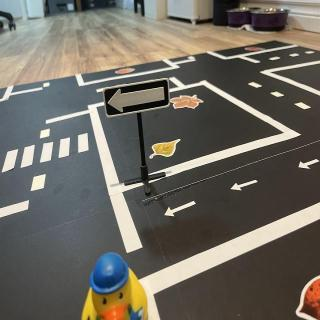duck_specialty: (81, 254, 150, 320)
road_crosswalk: (1, 128, 91, 177)
road_oneway: (163, 194, 203, 222), (227, 173, 261, 199), (294, 150, 320, 178)
sign_oneway_left: (104, 79, 171, 119)
